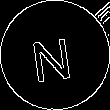N_N: (31, 27, 79, 83)
